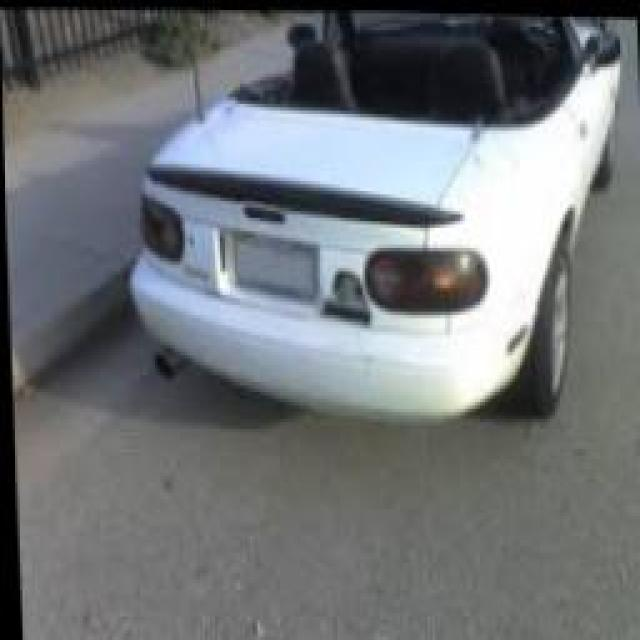Dickey: (272, 228, 377, 334)
